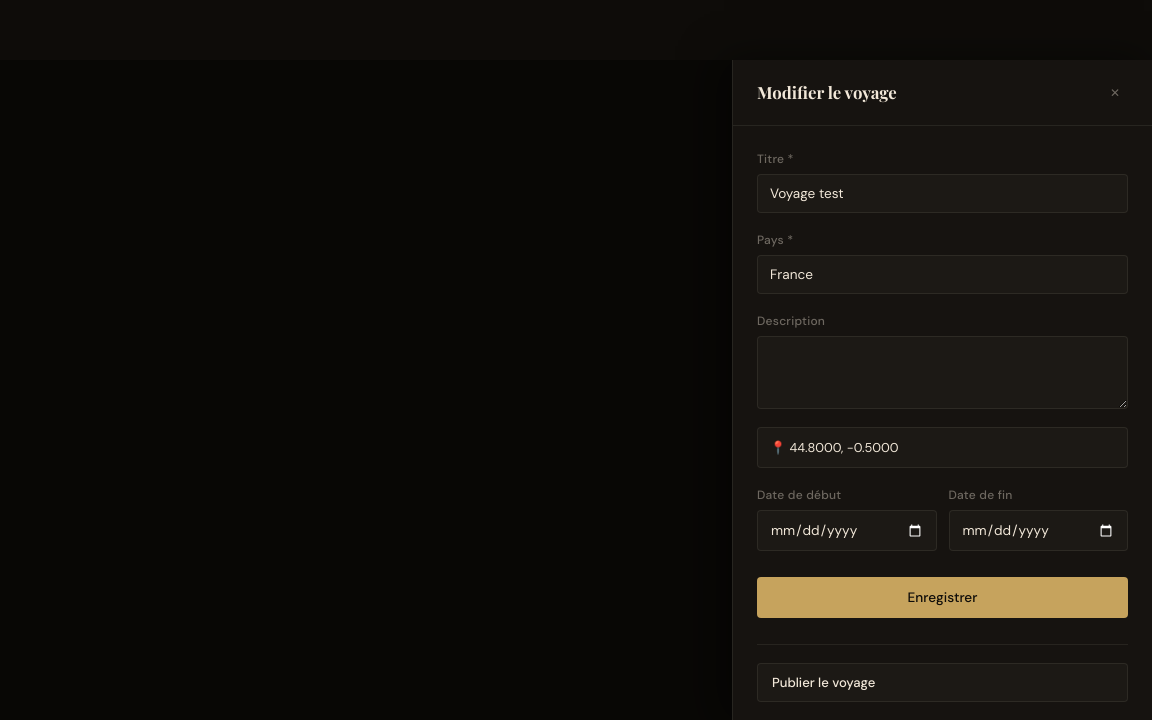
Test: TripForm lifecycle actions › shows an error when a lifecycle action rejects
The width and height of the screenshot is (1152, 720).
Step 1. Click the button "Publier le voyage" → (824, 683), box [757, 663, 1128, 702]
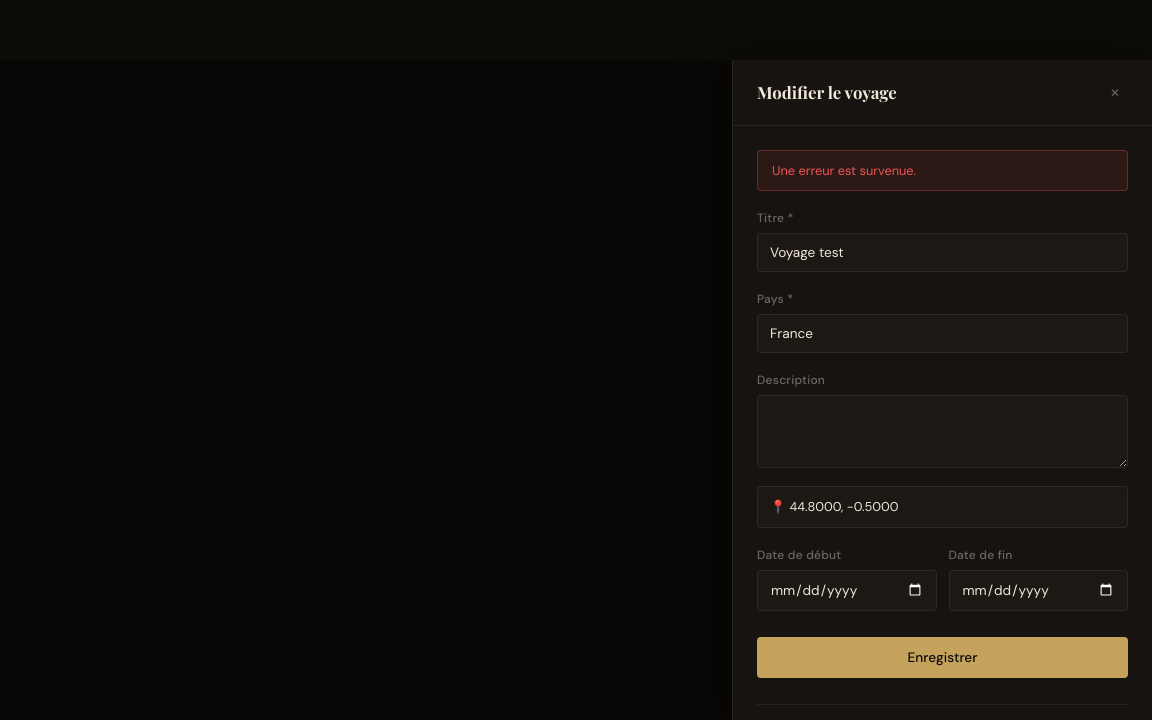
Expected: the button "Enregistrer" is enabled, [757, 637, 1128, 678]
Result: the text "Une erreur est survenue." is shown at [772, 162, 916, 179]
